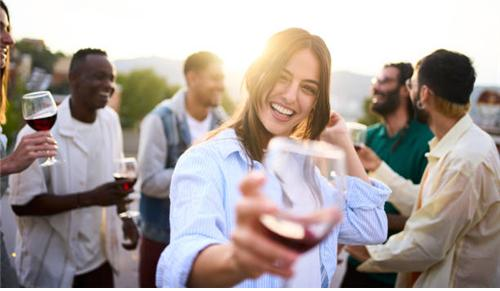alcohol: (257, 131, 344, 287), (22, 90, 62, 167), (109, 157, 141, 218), (346, 120, 367, 156)
